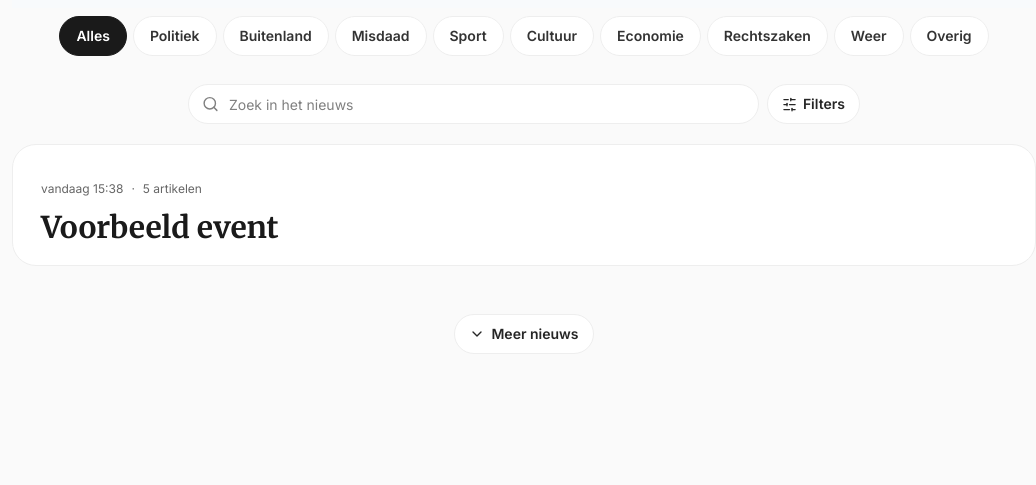
Test: EventFeed › loads the next page under the news with Meer nieuws
Click the button "Meer nieuws".
click(524, 334)  # box [454, 314, 594, 354]
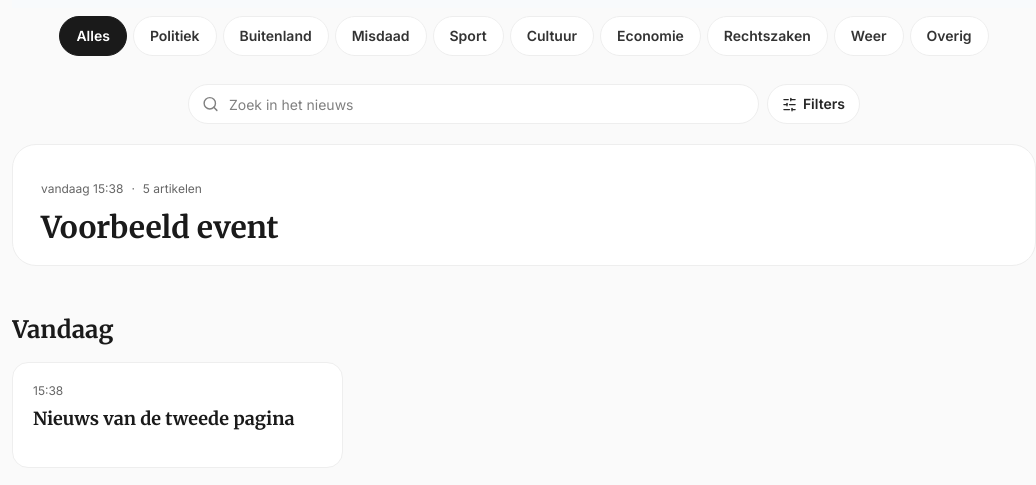
expect the heading "Nieuws van de tweede pagina" is shown: met, box [33, 405, 322, 433]
expect the button "Meer nieuws" is gone: met
